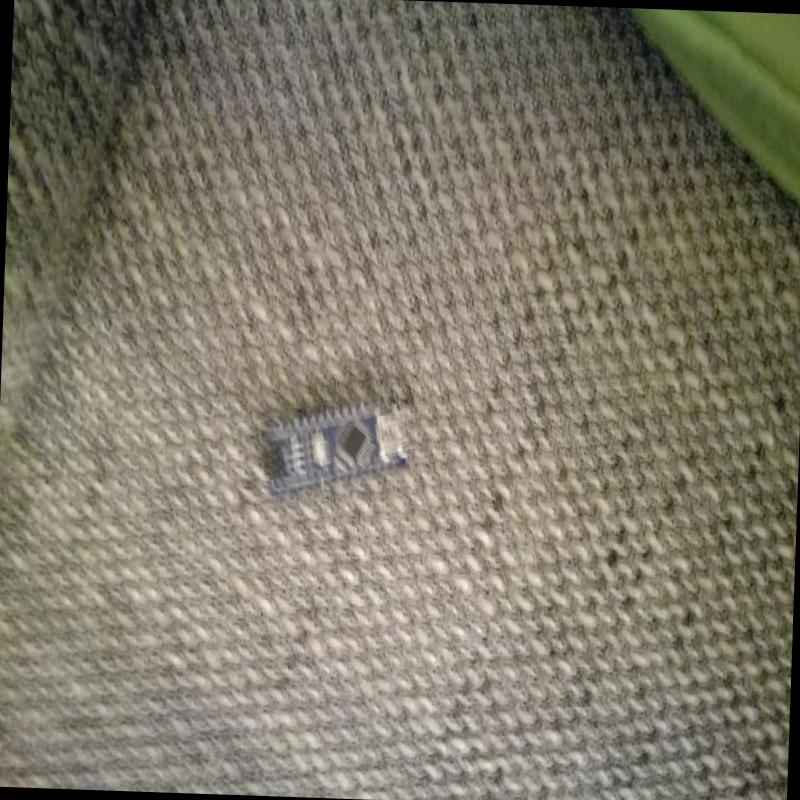Arduino_Nano: (256, 392, 422, 502)
